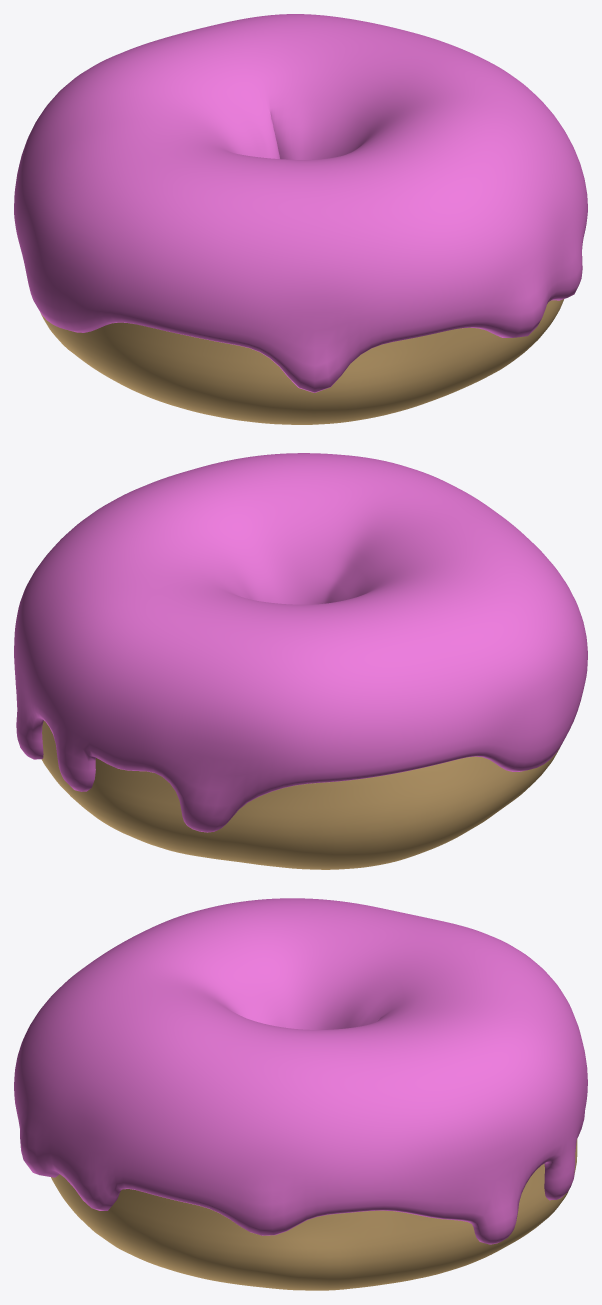
Rendered from Donut.glb.
The picture shows the model from 3 angles, top to bottom: view 1: azimuth 30°, elevation 25°; view 2: azimuth 150°, elevation 25°; view 3: azimuth 270°, elevation 25°; orthographic projection.
Visible parts, largest first — view 1: Icing, Donut; view 2: Icing, Donut; view 3: Icing, Donut.
Part boxes in pixels (bbox=[...]): Icing: bbox=[14, 14, 587, 392]; Donut: bbox=[40, 299, 563, 424]; Icing: bbox=[14, 453, 587, 832]; Donut: bbox=[41, 721, 559, 869]; Icing: bbox=[14, 898, 587, 1244]; Donut: bbox=[51, 1139, 577, 1290].
Size of the model in its own units: 0.1059 by 0.0505 by 0.1046.
